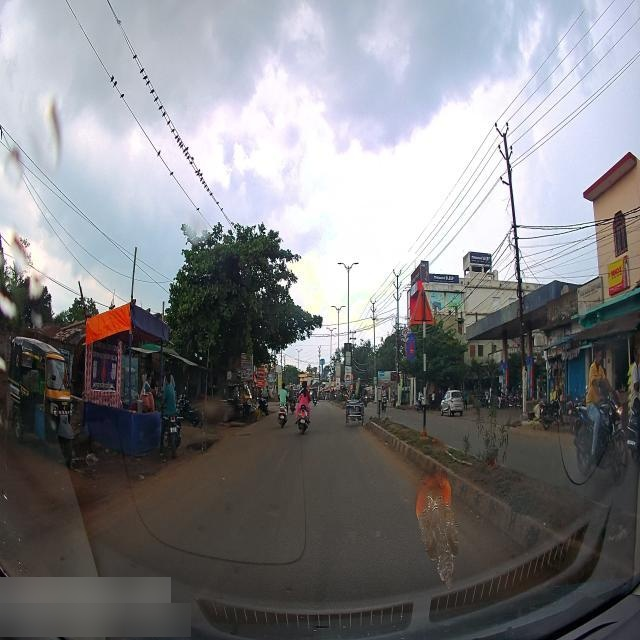pothole: (181, 432, 223, 462)
